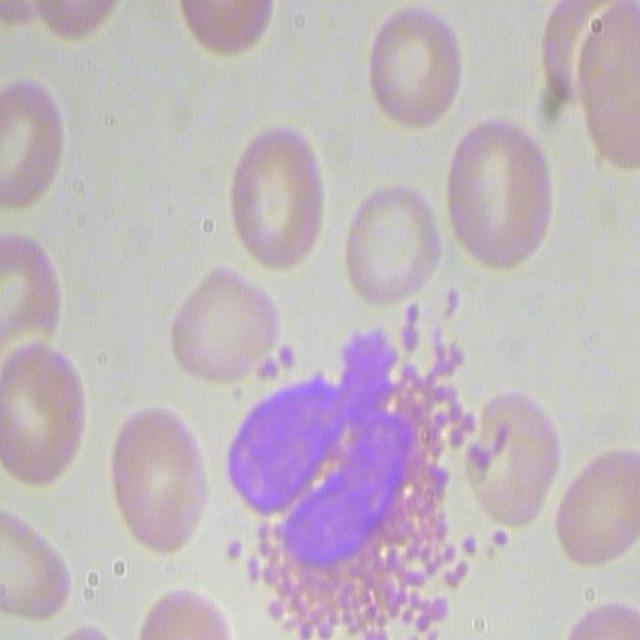RBC: (443, 120, 553, 276), (226, 122, 330, 277), (452, 383, 558, 528), (544, 0, 637, 163), (106, 404, 204, 556), (165, 268, 277, 389), (362, 3, 463, 130), (342, 180, 441, 304), (0, 343, 83, 489), (558, 448, 640, 567), (0, 76, 64, 212), (0, 509, 71, 626), (171, 0, 278, 53), (136, 586, 240, 640), (8, 0, 123, 44)
WBC: (219, 339, 497, 640)
